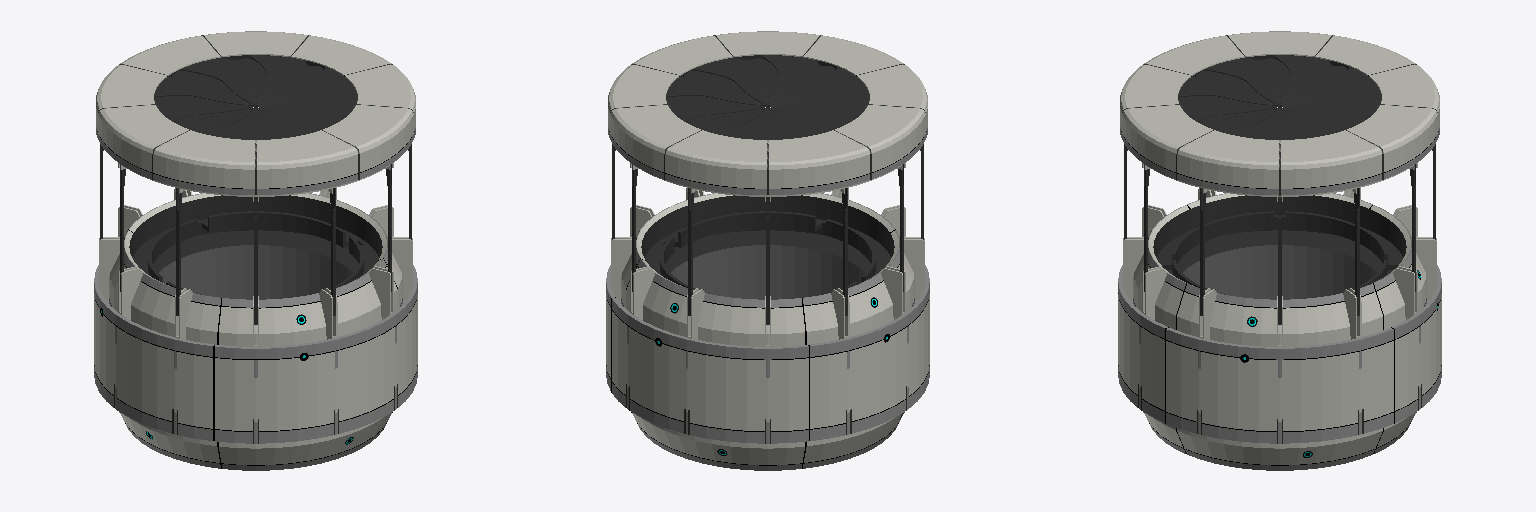
3 renders of one model, left to right at view 1: azimuth 30°, elevation 25°; view 2: azimuth 150°, elevation 25°; view 3: azimuth 270°, elevation 25°, orthographic.
Parts seen in each view (by area): view 1: item_dropper_model.002; view 2: item_dropper_model.002; view 3: item_dropper_model.002.
Boxes of the visible parts, <box> form: item_dropper_model.002: <box>94,31,417,470</box>; item_dropper_model.002: <box>606,31,929,470</box>; item_dropper_model.002: <box>1118,31,1441,470</box>.
Size of the model in its own units: 1.19 by 1.29 by 1.19.
2 materials, 2 textured.